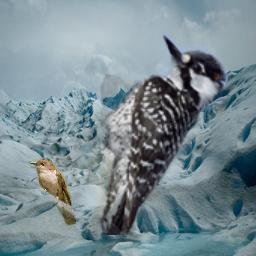Cuckoo: (29, 158, 76, 226)
Woodpecker: (63, 28, 228, 235)
